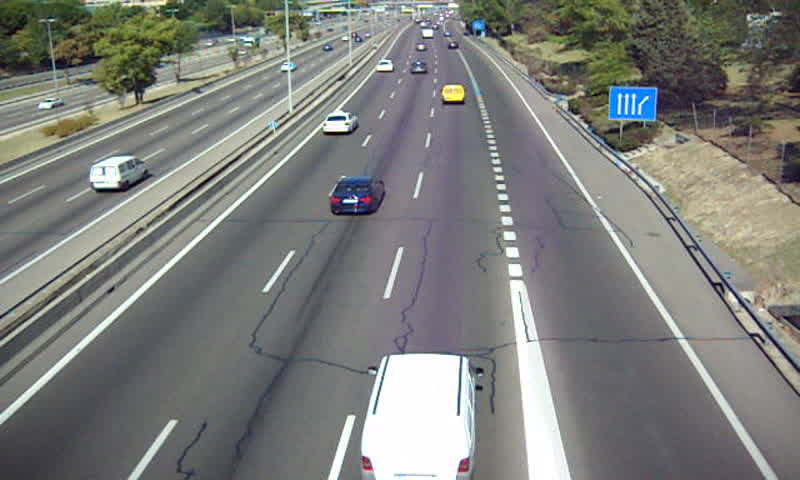car: (328, 176, 383, 216), (320, 112, 358, 134), (409, 60, 428, 76), (374, 60, 393, 74)
van: (362, 353, 477, 480), (441, 84, 464, 103)
